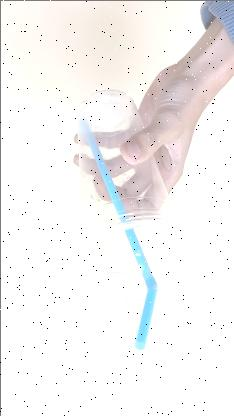Others: (66, 89, 190, 325)
